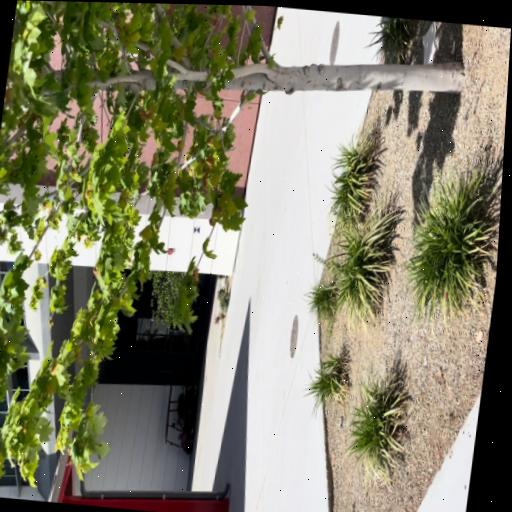target9: (193, 225, 200, 234)
